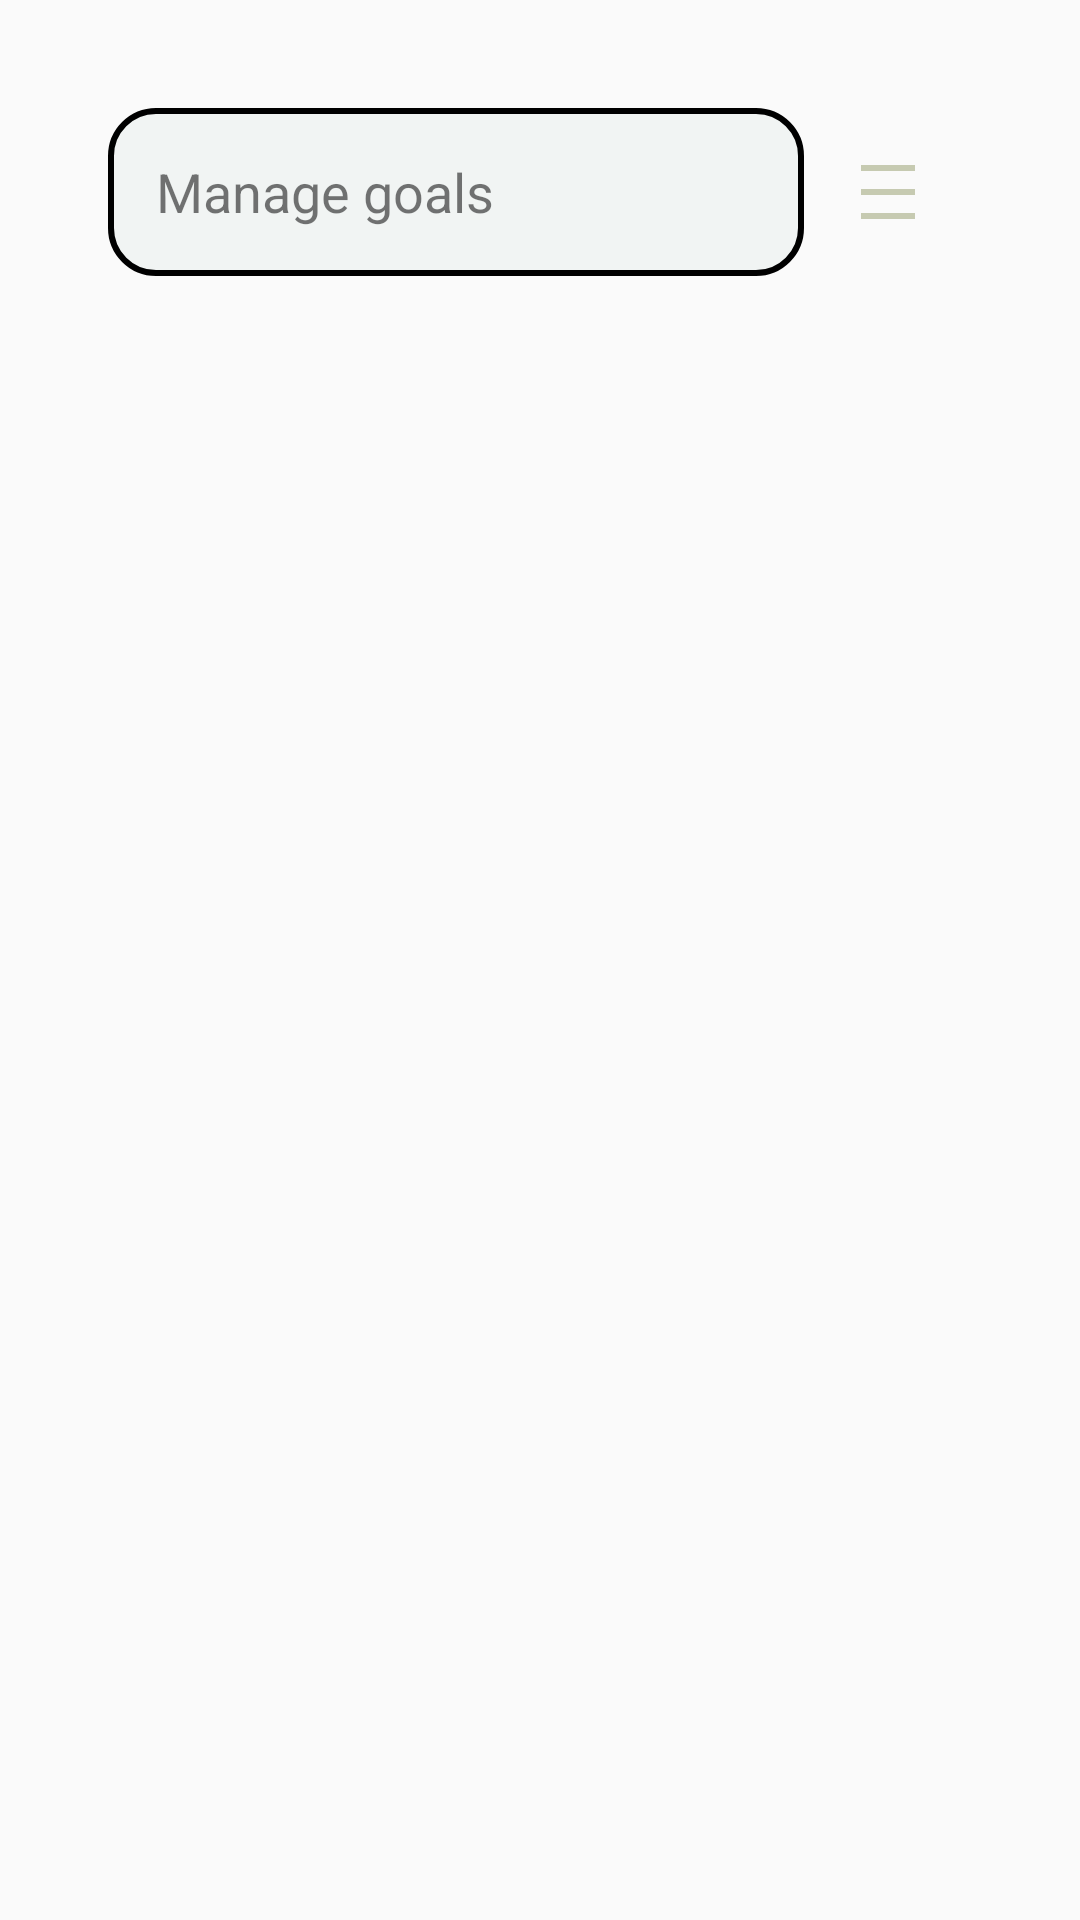

Screen size 1080px×1920px. Icon name, then its box in pixels as Rect(x1, y1, x2, y2):
Menu: Rect(861, 165, 915, 219)
